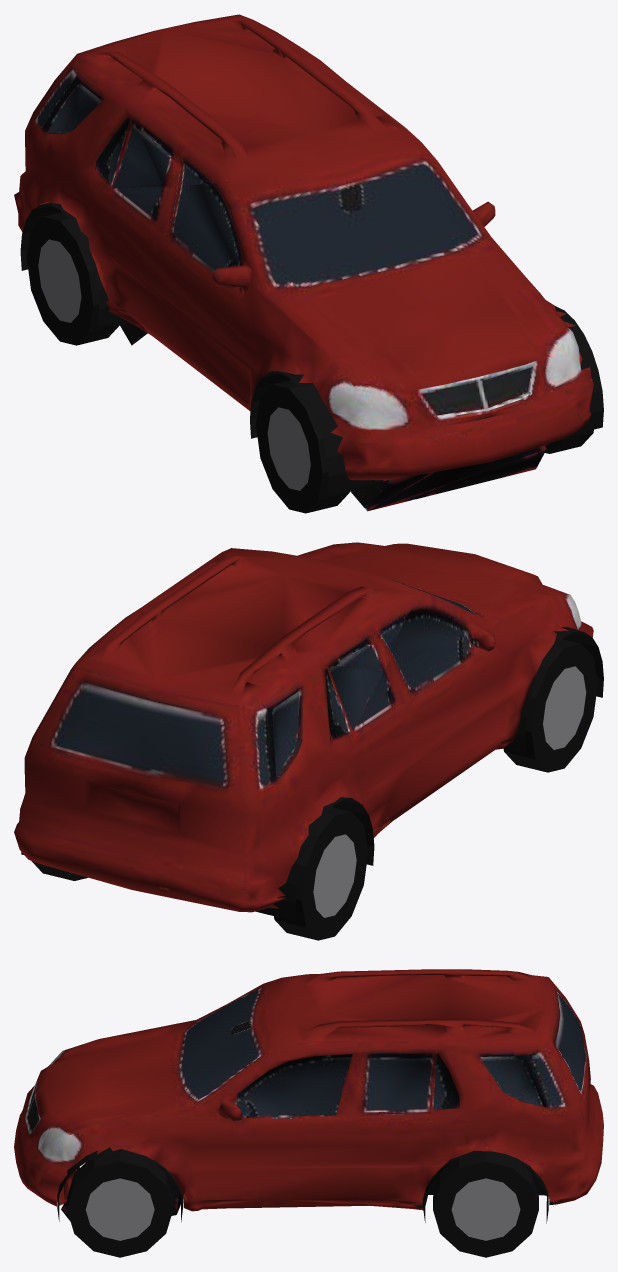
Rendered from suv-red.glb.
3 views of the same model, one above another, from view 1: azimuth 30°, elevation 25°; view 2: azimuth 150°, elevation 25°; view 3: azimuth 270°, elevation 25° (orthographic). The views are drawn at different scales.
Visible parts, largest first — view 1: suv, wheel_rr, wheel_fr; view 2: suv, wheel_fr, wheel_rr; view 3: suv, wheel_fl, wheel_rl.
Boxes of the visible parts, x1,y1,x2,y2 form: suv: (14,14,603,511); wheel_rr: (26,212,120,345); wheel_fr: (256,380,350,513); suv: (14,542,603,921); wheel_fr: (503,639,597,772); wheel_rr: (274,807,368,940); suv: (14,969,603,1223); wheel_fl: (67,1152,173,1257); wheel_rl: (433,1152,538,1257).
Bounding box in the file's own units: 2.08 × 1.87 × 4.7.
1 material, 1 textured.
